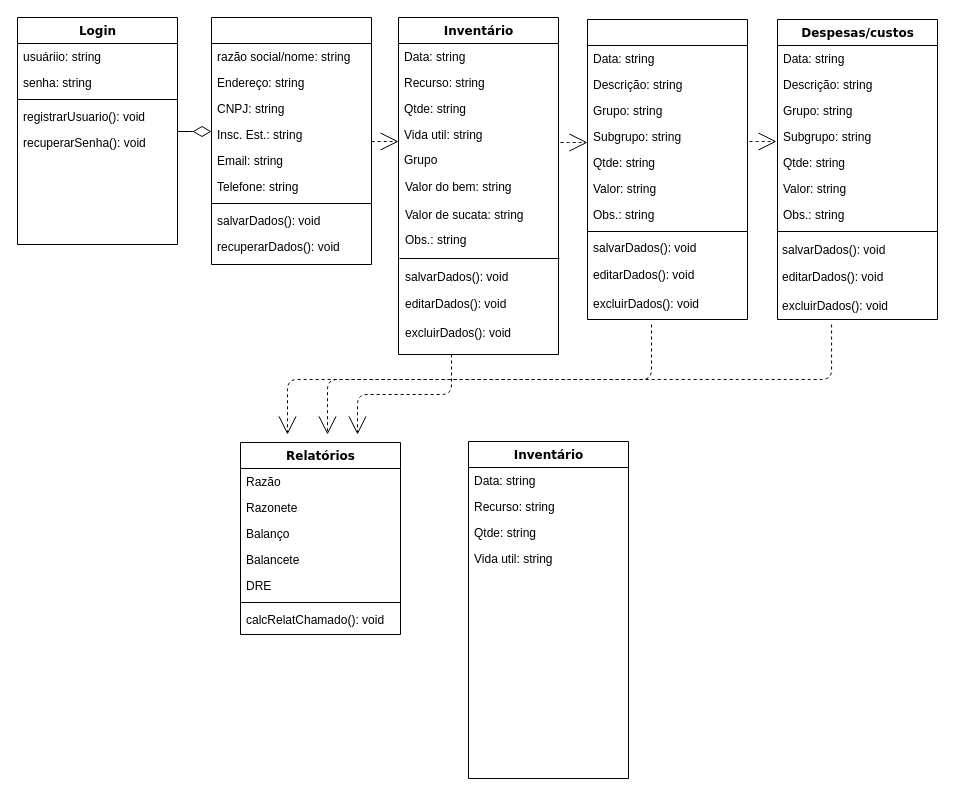
Some shapes in this 956 by 796 pixel diagram are drawn without their labels. The box of each missing label's shape, as (x1, y1, x2, y2) in pixels:
Dados do laticínio: (210, 16, 372, 264)
Receitas: (586, 18, 748, 320)
